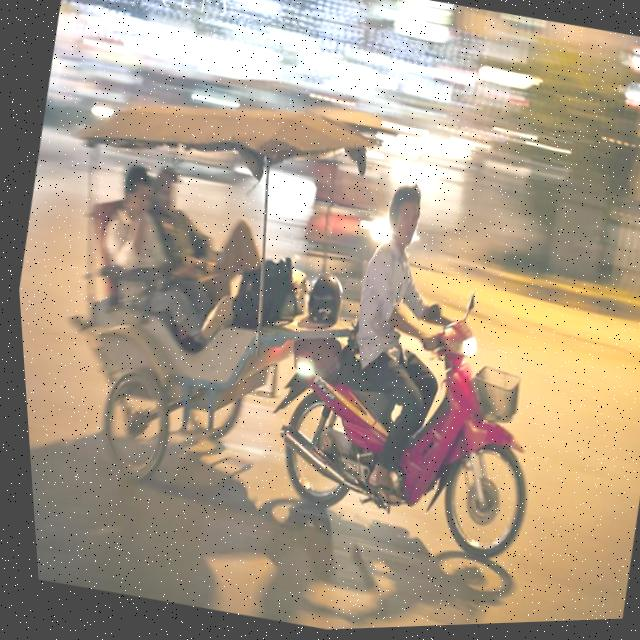motorcycle: (237, 249, 581, 582)
